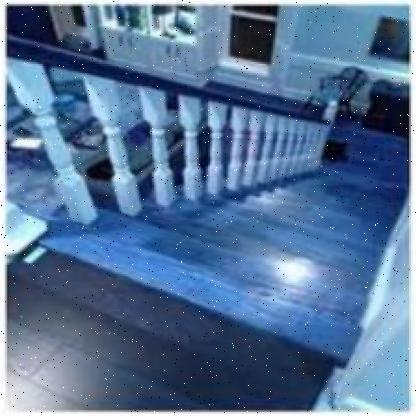stair_down: (45, 162, 355, 350)
